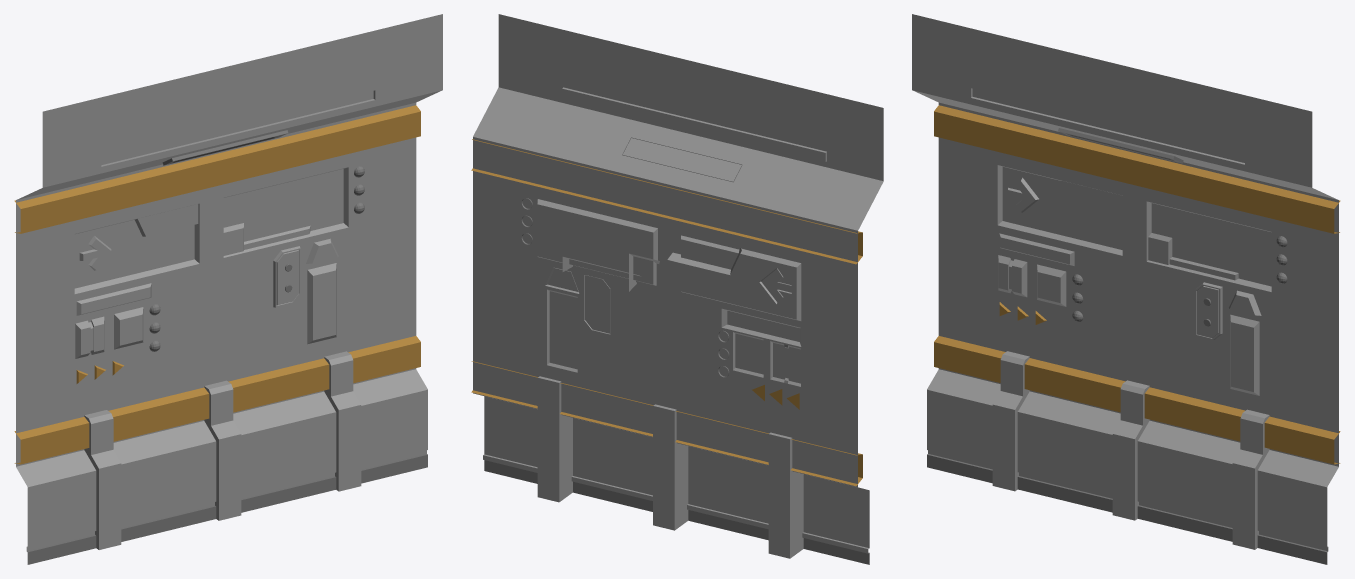
The model's file is Wall_4.glb.
3 views of the same model, side by side, from view 1: azimuth 30°, elevation 25°; view 2: azimuth 150°, elevation 25°; view 3: azimuth 330°, elevation 25° (orthographic). The views are drawn at different scales.
Parts seen in each view (by area): view 1: Wall_4; view 2: Wall_4; view 3: Wall_4.
Part boxes in pixels (<box>): Wall_4: <box>14,14,442,564</box>; Wall_4: <box>471,14,883,564</box>; Wall_4: <box>912,14,1340,564</box>.
Bounding box in the file's own units: 1.36 × 1.51 × 0.1947.
